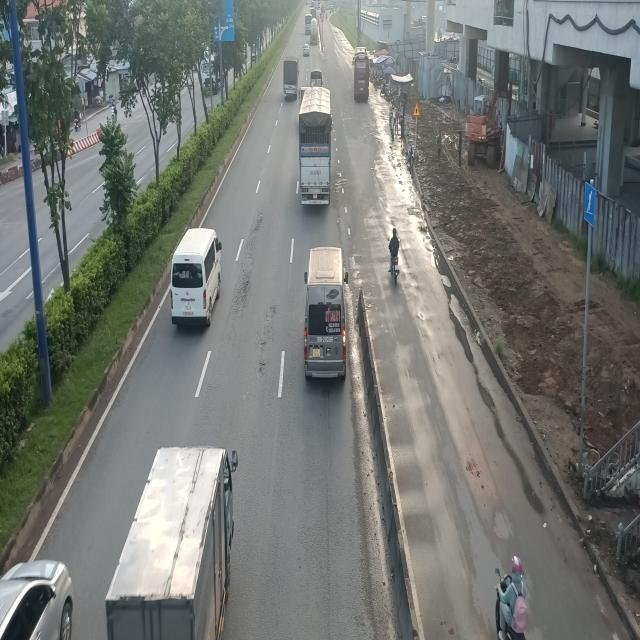coach: (353, 48, 370, 102)
truck: (91, 448, 236, 640), (296, 89, 332, 209), (282, 58, 298, 102)
van: (302, 245, 348, 382), (172, 228, 226, 329)
